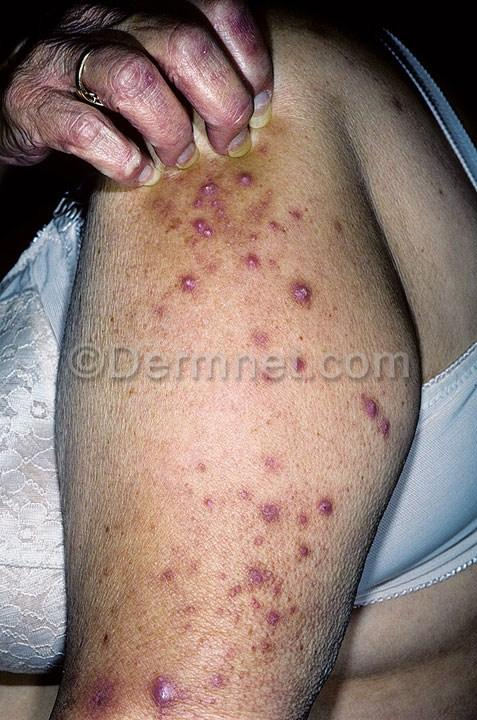Eczema: (146, 139, 360, 329), (173, 429, 340, 666), (82, 476, 169, 641), (338, 366, 420, 466), (89, 655, 202, 720)
